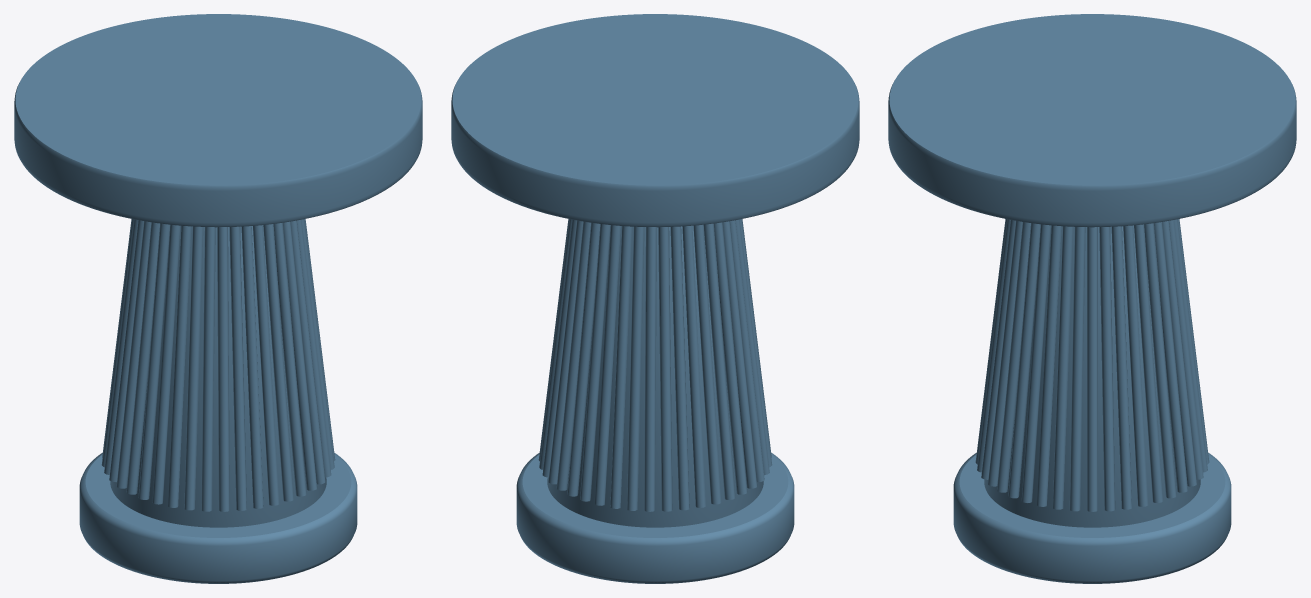
The model's file is ribbed-pedestal-side-table.glb.
3 views of the same model, side by side, from view 1: azimuth 30°, elevation 25°; view 2: azimuth 150°, elevation 25°; view 3: azimuth 270°, elevation 25° (orthographic).
Visible parts, largest first — view 1: catalog_surface_RealismUV; view 2: catalog_surface_RealismUV; view 3: catalog_surface_RealismUV.
Boxes of the visible parts, x1=… form: catalog_surface_RealismUV: x1=14, y1=14, x2=422, y2=583; catalog_surface_RealismUV: x1=451, y1=14, x2=859, y2=583; catalog_surface_RealismUV: x1=888, y1=14, x2=1296, y2=583.
Size of the model in its own units: 0.45 by 0.52 by 0.45.
